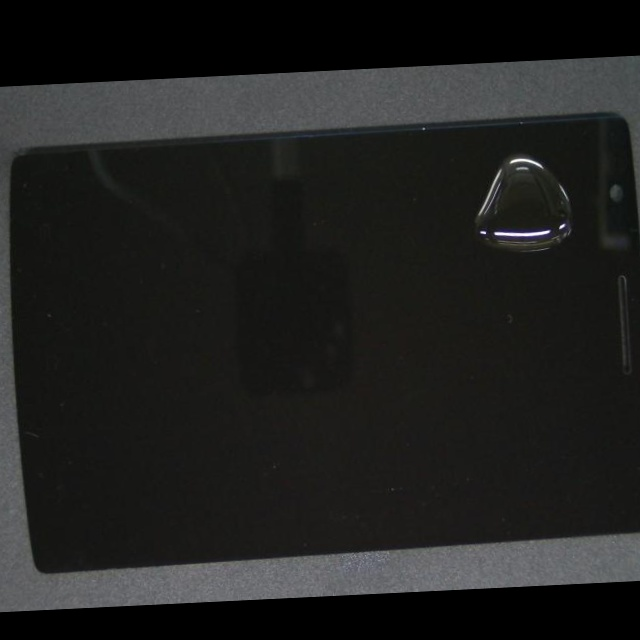oil: (287, 111, 640, 214)
